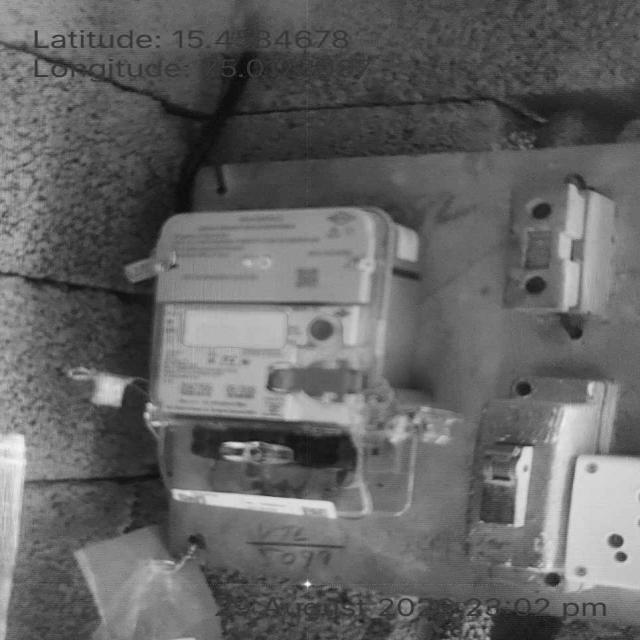meter: (148, 212, 378, 426)
